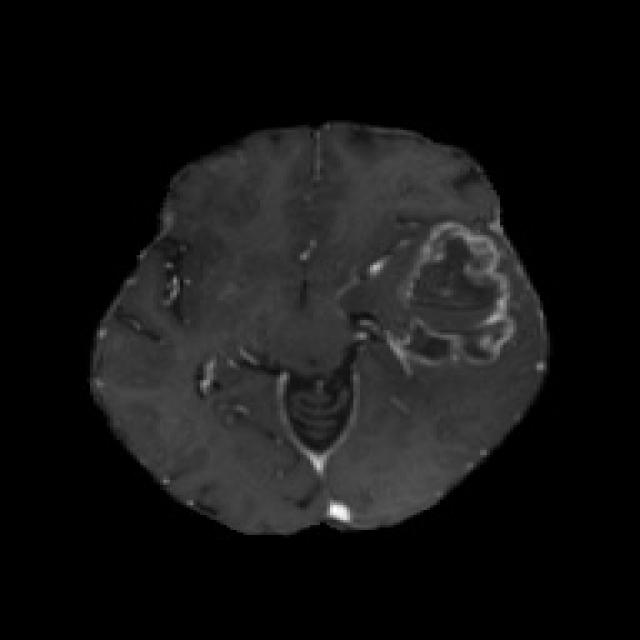positive: (398, 224, 515, 366)
